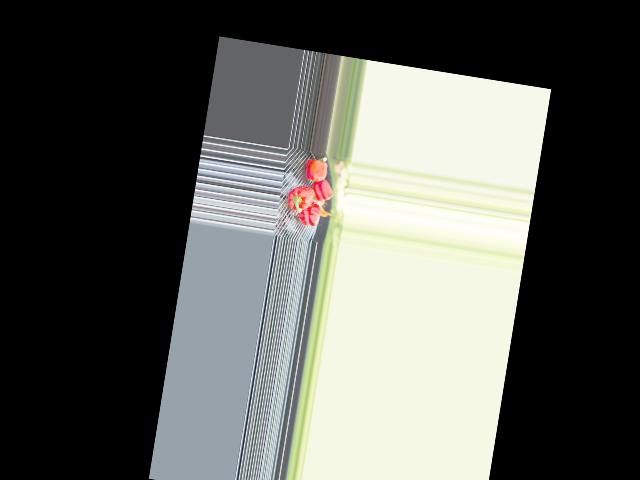bell_pepper: (298, 200, 323, 228)
